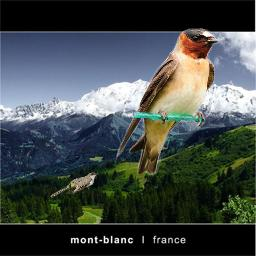Cuckoo: (50, 172, 98, 198)
Swallow: (116, 28, 219, 175)
